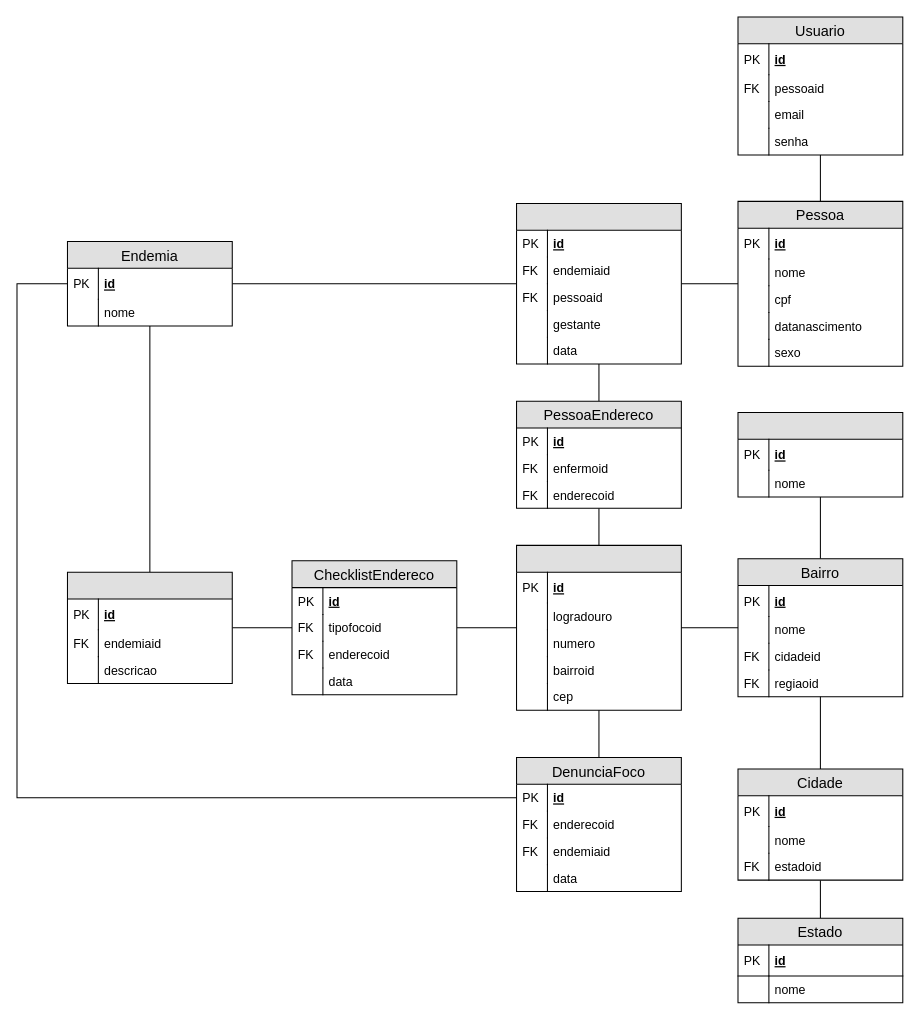
The diagram is 920 pixels wide and 1020 high, and some of its shapes have lost their labels. Each missing label, with the box of its shape:
Endereco: (516, 544, 681, 710)
Enfermo: (516, 202, 681, 364)
Regiao: (737, 411, 903, 497)
TipoFoco: (66, 571, 232, 683)
